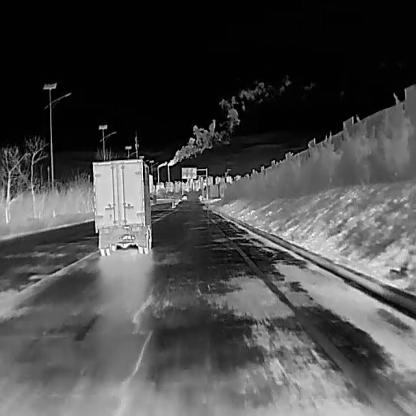car: (180, 193, 187, 199)
truck: (91, 158, 156, 255)
